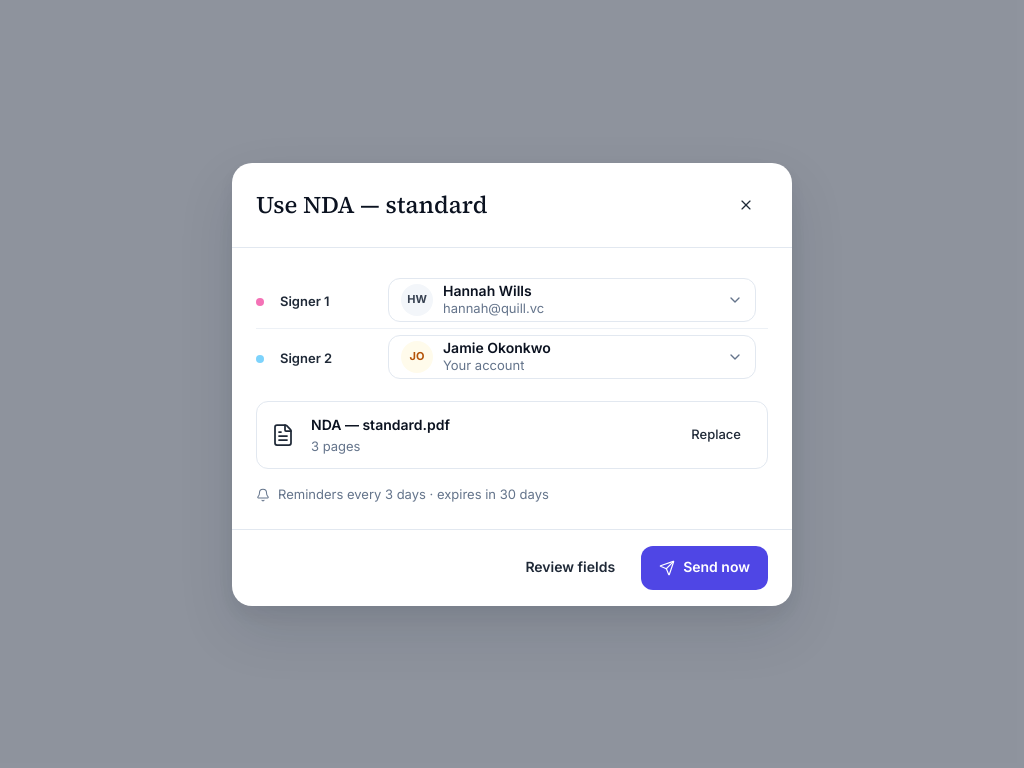
UseTemplateDialog — people › does not let one person fill two roles
Expected: the text "NDA — standard.pdf" is shown, left=311, top=416, right=450, bottom=432
Click the button "JO Jamie Okonkwo Your account" at [417, 356], box left=388, top=334, right=756, bottom=378
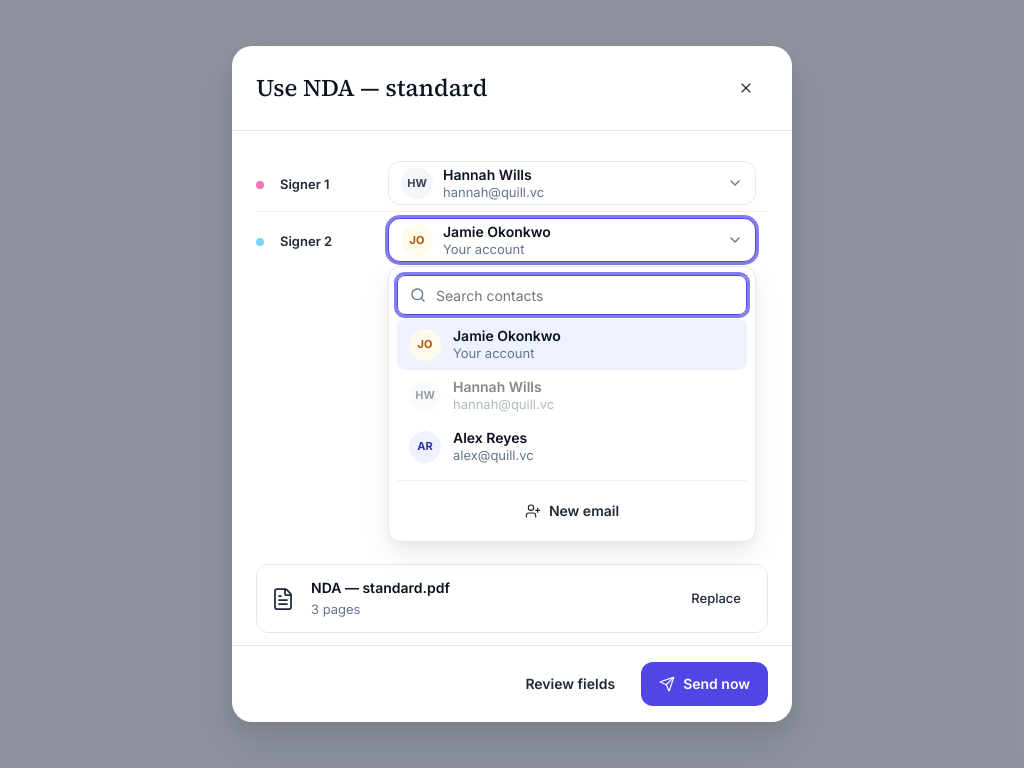
Expected: the option "HW Hannah Wills hannah@quill.vc" is disabled, left=397, top=370, right=747, bottom=421
